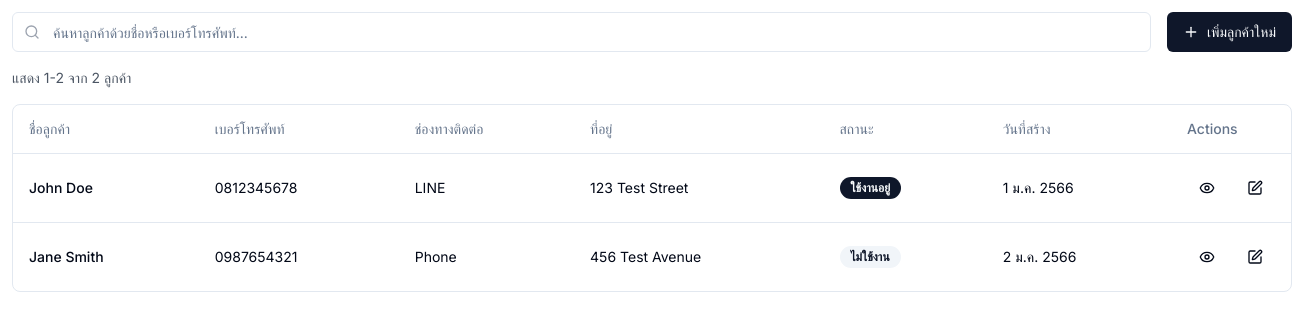
Test: CustomerTable › should show clear search option when searching
Expected: the text "John Doe" is shown, [13,153,199,222]
Type "John" into the field with placeholder "ค้นหาลูกค้าด้วยชื่อหรือเบอร์โทรศัพท์..." at [581, 32], box [12,12,1151,52]
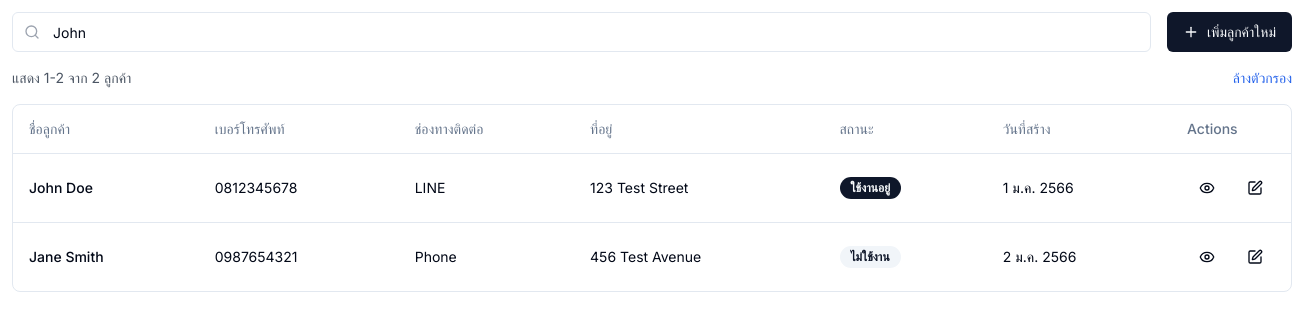
Expected: the button "ล้างตัวกรอง" is shown, [1233,68,1292,88]
